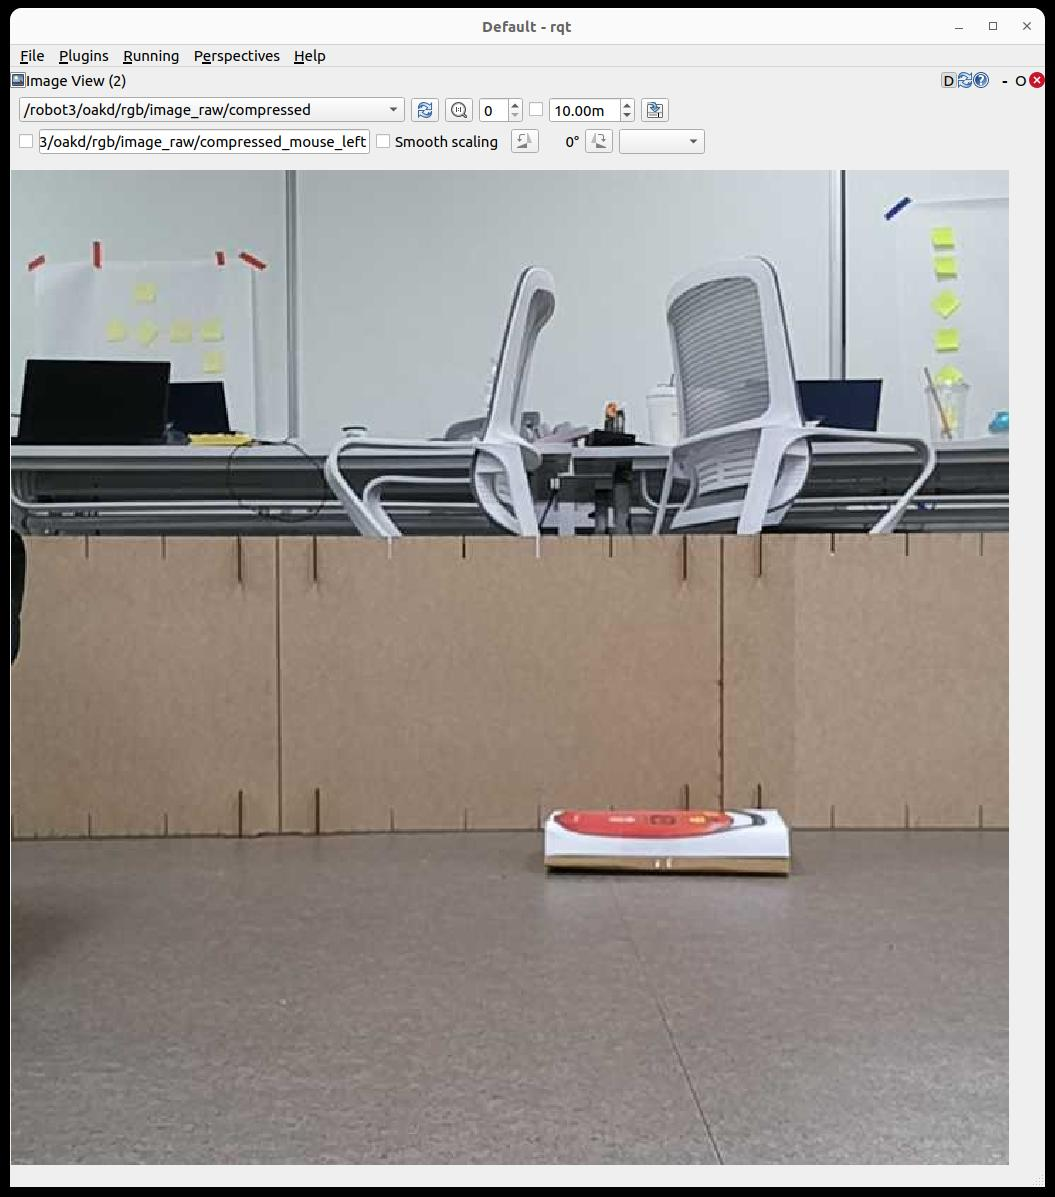AED: (544, 810, 789, 875)
